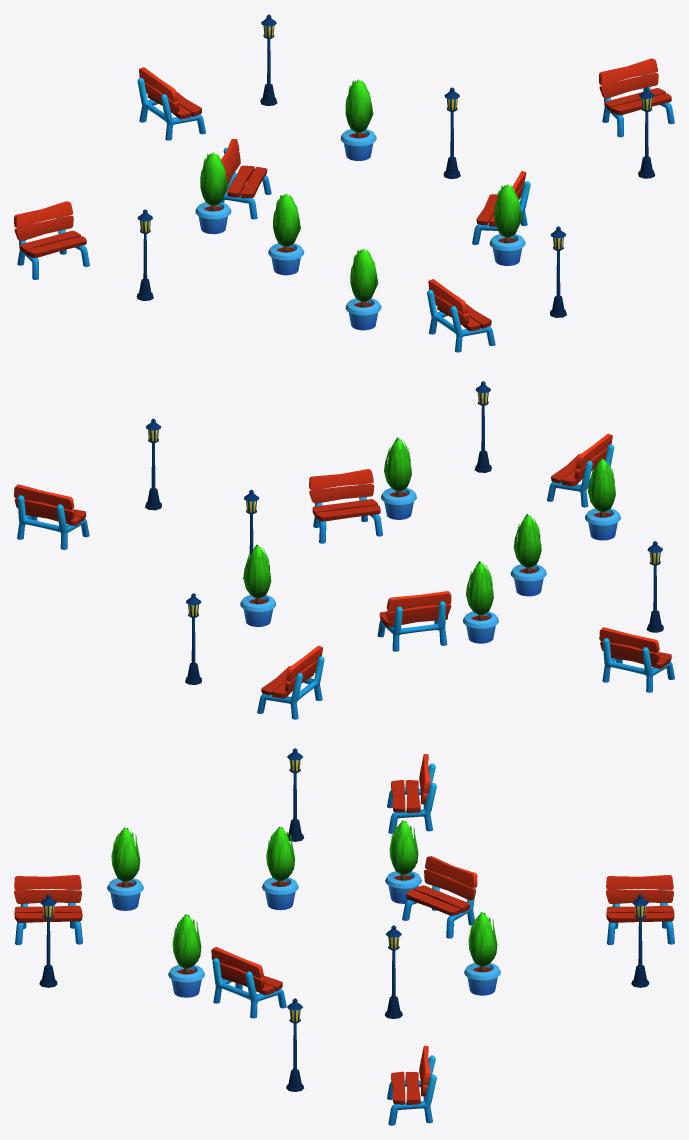
The model's file is parkbench.dae.
3 views of the same model, one above another, from view 1: azimuth 30°, elevation 25°; view 2: azimuth 150°, elevation 25°; view 3: azimuth 270°, elevation 25° (orthographic). The views are drawn at different scales.
Parts seen in each view (by area): view 1: Cube.007, Cube.005, Plant_1.009_Color Palette_0.001, Plant_1.006, Plant_1.007, Plant_1.008, Plant_1.009, Cube.002, Cube.006, Cube.004, Cylinder.017, Cylinder.019 (+10 smaller); view 2: Cube.003, Plant_1.007, Plant_1.009, Plant_1.006, Plant_1.009_Color Palette_0.001, Plant_1.008, Cube.002, Cube.007, Cube.005, Cube.006, Cube.004, Cylinder.018 (+8 smaller); view 3: Cube.004, Cube.006, Cube.002, Plant_1.006, Plant_1.009_Color Palette_0.001, Plant_1.007, Plant_1.009, Plant_1.008, Cube.003, Cube.007, Cube.005, Cylinder.016 (+8 smaller).
Boxes of the visible parts, <box> form: Cube.007: <box>14,201,86,257</box>; Cube.005: <box>599,58,671,115</box>; Plant_1.009_Color Palette_0.001: <box>345,248,381,330</box>; Plant_1.006: <box>340,79,376,160</box>; Plant_1.007: <box>268,193,304,275</box>; Plant_1.008: <box>195,152,231,234</box>; Plant_1.009: <box>489,184,525,265</box>; Cube.002: <box>221,139,267,198</box>; Cube.006: <box>139,67,201,119</box>; Cube.004: <box>428,279,491,331</box>; Cylinder.017: <box>427,290,495,352</box>; Cylinder.019: <box>137,78,205,140</box>; Cube.003: <box>309,469,380,521</box>; Plant_1.007: <box>510,514,546,596</box>; Plant_1.009: <box>381,437,416,519</box>; Plant_1.006: <box>240,544,276,626</box>; Plant_1.009_Color Palette_0.001: <box>585,458,620,540</box>; Plant_1.008: <box>463,561,498,643</box>; Cube.002: <box>379,591,451,627</box>; Cube.007: <box>599,627,671,668</box>; Cube.005: <box>14,484,86,525</box>; Cube.006: <box>261,645,322,698</box>; Cube.004: <box>551,433,612,486</box>; Cylinder.018: <box>17,495,89,549</box>; Cube.004: <box>14,874,82,922</box>; Cube.006: <box>606,875,674,922</box>; Cube.002: <box>406,856,477,915</box>; Plant_1.006: <box>464,912,500,995</box>; Plant_1.009_Color Palette_0.001: <box>107,827,143,910</box>; Plant_1.007: <box>262,826,298,910</box>; Plant_1.009: <box>168,914,204,997</box>; Plant_1.008: <box>385,820,421,903</box>; Cube.003: <box>211,947,282,995</box>; Cube.007: <box>391,754,430,813</box>; Cube.005: <box>391,1045,430,1104</box>; Cylinder.016: <box>212,958,286,1018</box>.
Size of the model in its own units: 1932 by 1682 by 251.
Materials: 2 (2 with a texture image).
